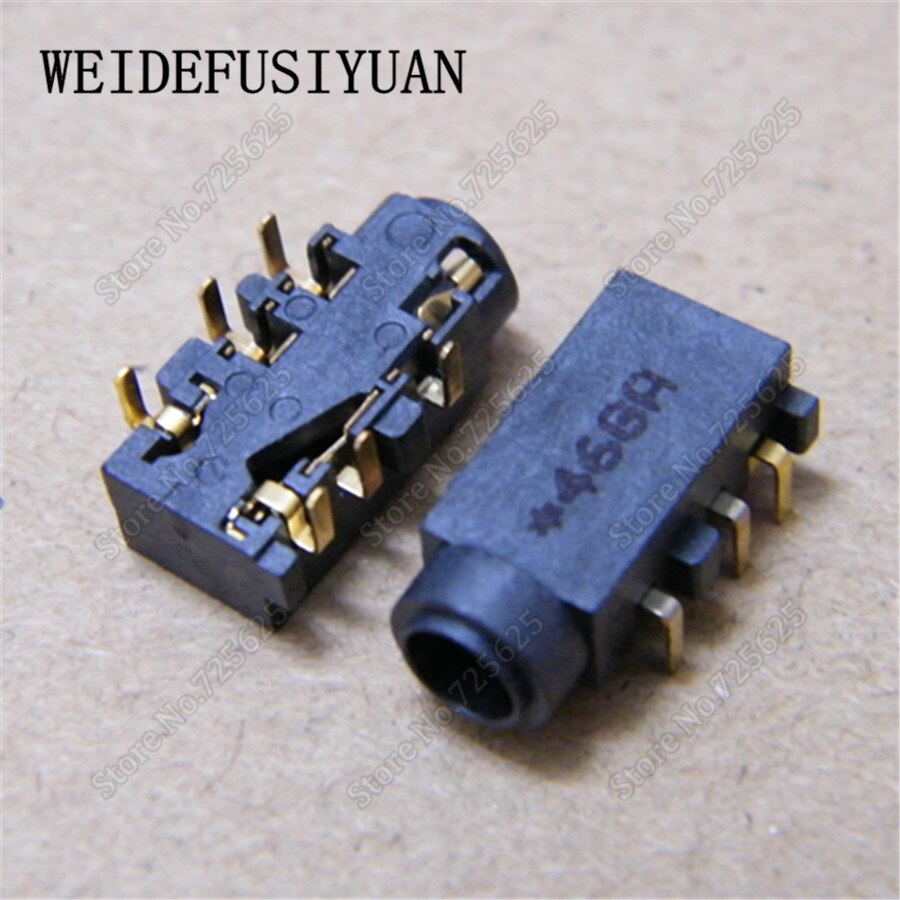aud: (385, 305, 802, 735)
